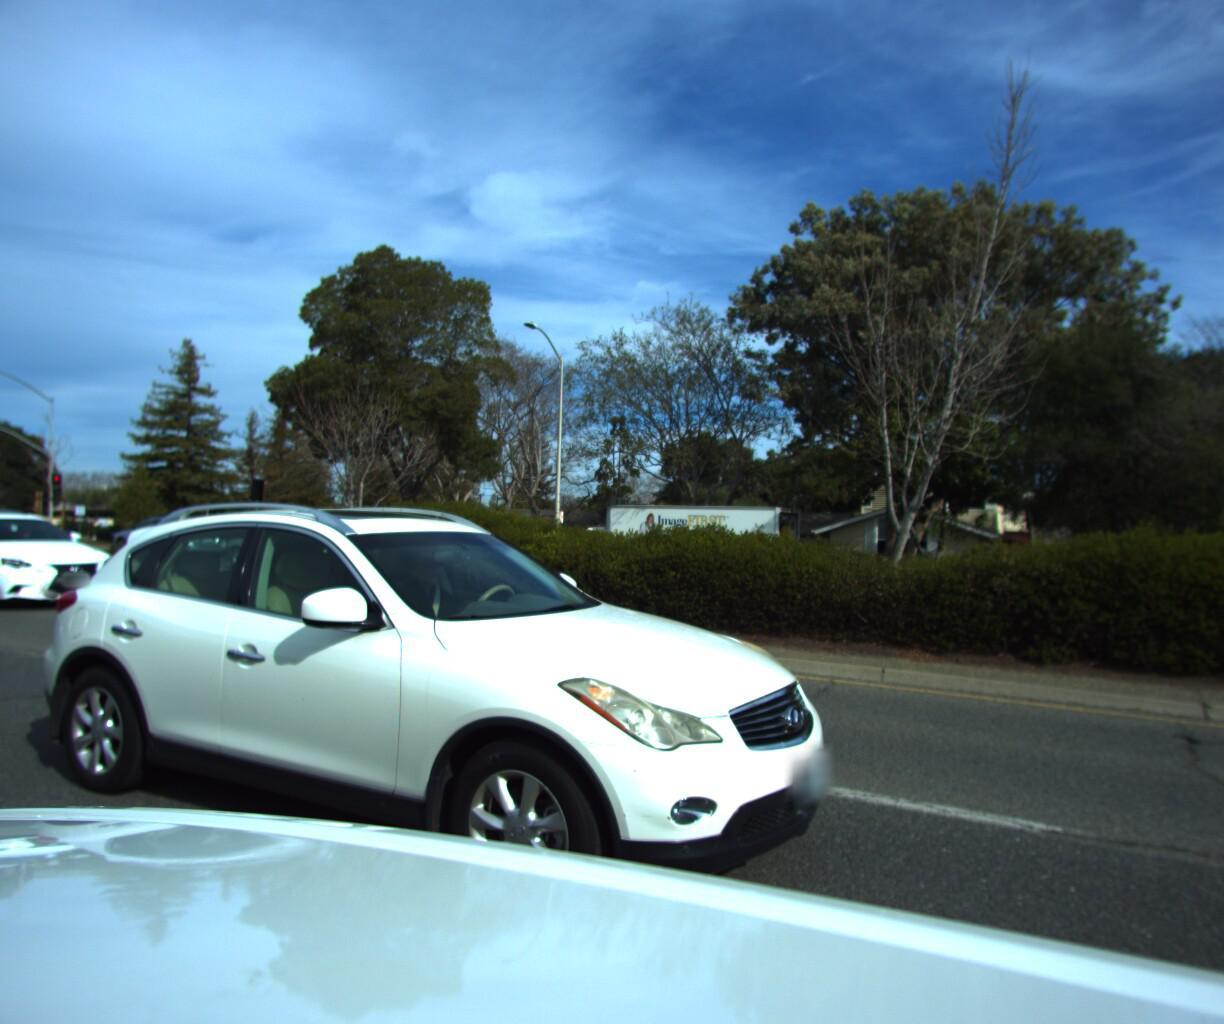car: (17, 486, 876, 993), (0, 505, 140, 621), (213, 510, 366, 573), (96, 508, 238, 564)
truck: (544, 497, 804, 585)
